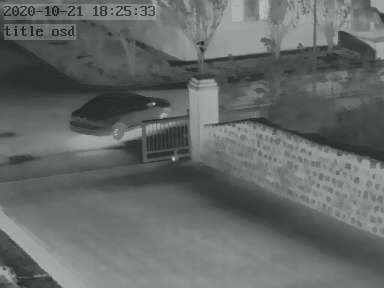vehicle: (66, 90, 171, 140)
